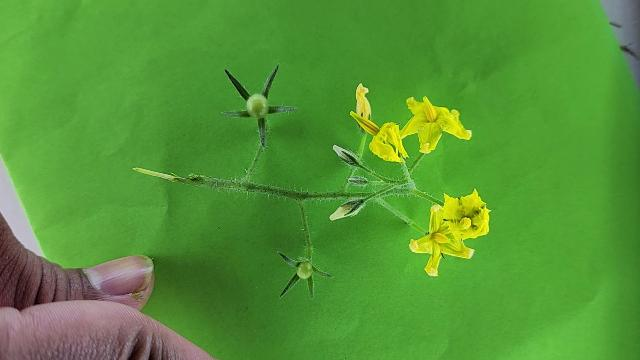Anthesis: (219, 61, 298, 151), (398, 93, 473, 155), (410, 203, 468, 278), (350, 108, 406, 164), (440, 188, 493, 242), (345, 82, 373, 180), (355, 81, 371, 122)
Flower Bud: (329, 199, 363, 221), (332, 144, 361, 167), (277, 250, 297, 265), (347, 175, 369, 185)
Fruit Bud: (246, 93, 269, 117), (296, 261, 312, 279)
